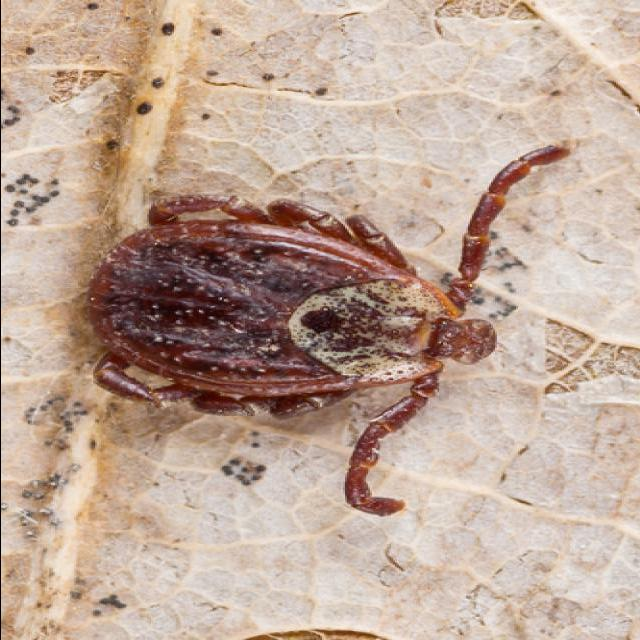Dermacentor Reticulatus-F: (86, 148, 565, 513)
